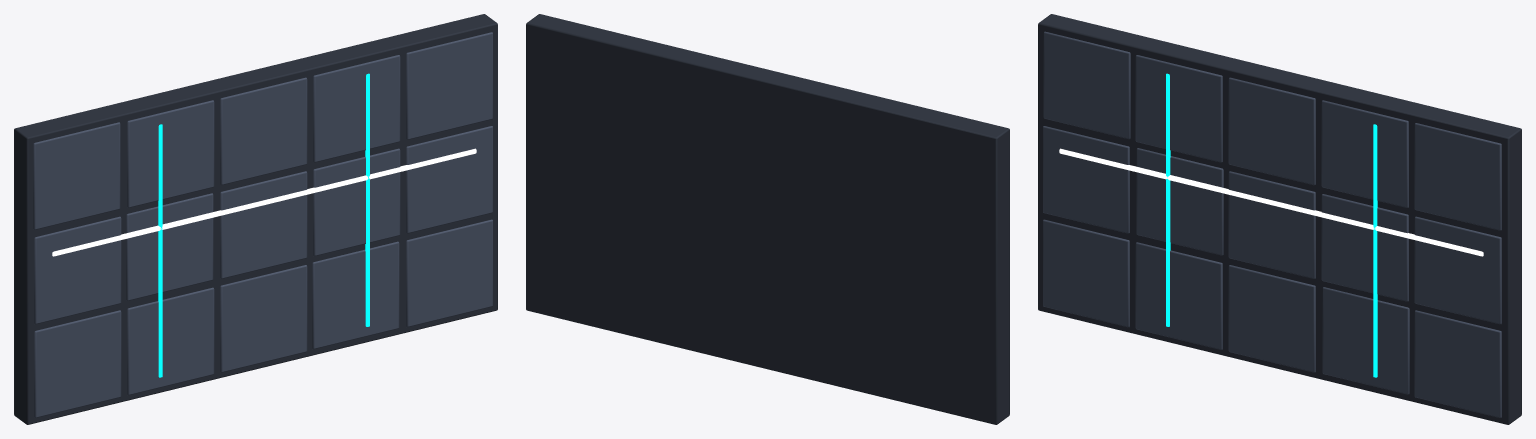
Rendered from backdrop_wall.glb.
The picture shows the model from 3 angles, left to right: view 1: azimuth 30°, elevation 25°; view 2: azimuth 150°, elevation 25°; view 3: azimuth 330°, elevation 25°; orthographic projection.
Visible parts, largest first — view 1: backdrop_wall; view 2: backdrop_wall; view 3: backdrop_wall.
Boxes of the visible parts, <box> form: backdrop_wall: <box>14,14,497,424</box>; backdrop_wall: <box>526,14,1009,424</box>; backdrop_wall: <box>1038,14,1521,424</box>.
Bounding box in the file's own units: 6 × 3.5 × 0.35.
